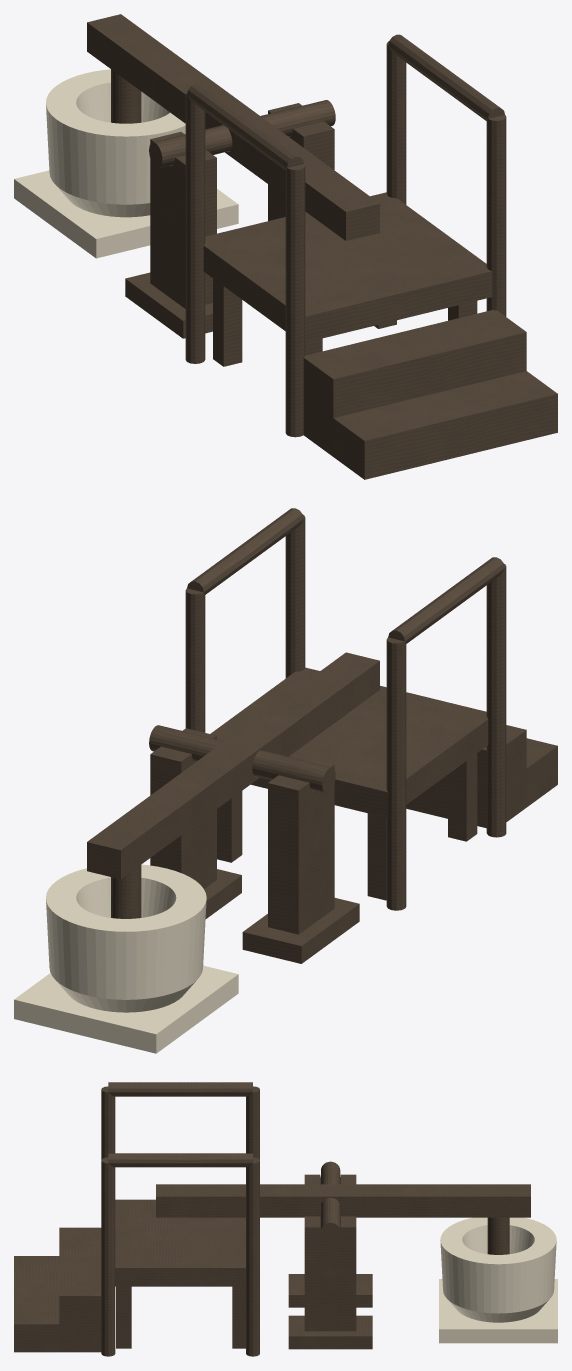
File: foot-pestle-LOD0.glb
3 renders of one model, top to bottom at view 1: azimuth 30°, elevation 25°; view 2: azimuth 150°, elevation 25°; view 3: azimuth 270°, elevation 25°, orthographic. The views are drawn at different scales.
Parts seen in each view (by area): view 1: pestle_timber_static, pestle_stone_static, pestle_timber_moving; view 2: pestle_timber_static, pestle_stone_static, pestle_timber_moving; view 3: pestle_timber_static, pestle_stone_static, pestle_timber_moving.
Boxes of the visible parts, x1,y1,x2,y2 form: pestle_timber_static: (125,34,557,479); pestle_stone_static: (14,69,238,258); pestle_timber_moving: (87,14,379,240); pestle_timber_static: (149,508,557,963); pestle_stone_static: (14,864,238,1053); pestle_timber_moving: (87,652,379,918); pestle_timber_static: (14,1082,372,1356); pestle_stone_static: (439,1217,557,1343); pestle_timber_moving: (156,1184,530,1254).
Size of the model in its own units: 1.41 by 1.7 by 4.21.
2 materials, 1 textured.
